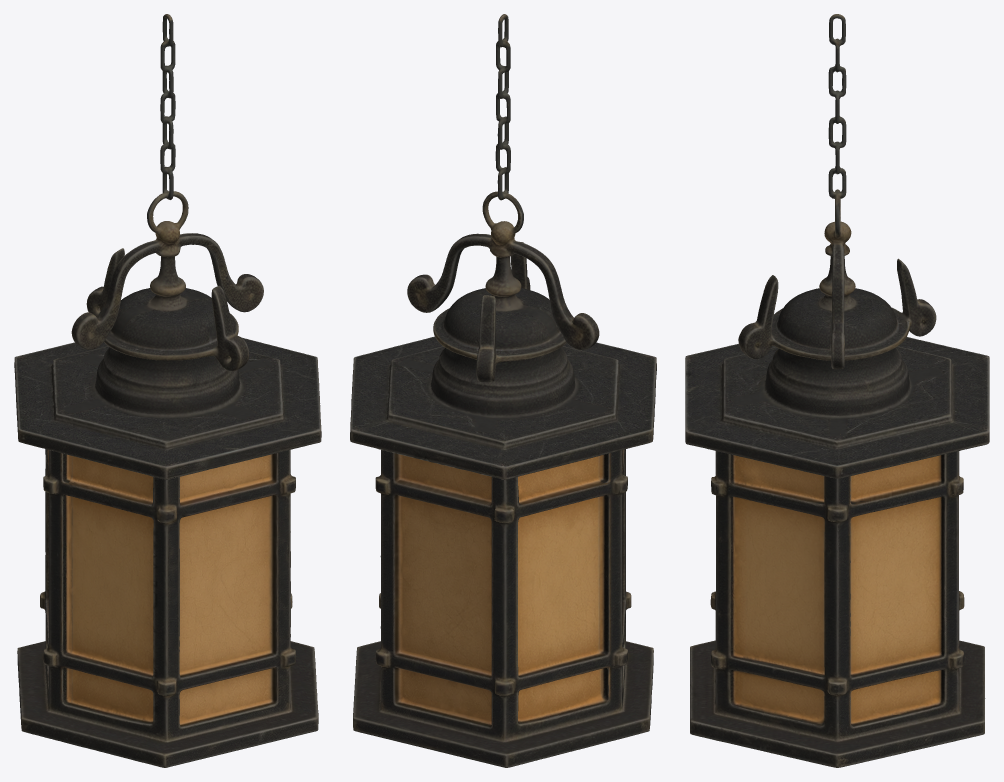
The model's file is prop09.glb.
The picture shows the model from 3 angles, left to right: view 1: azimuth 30°, elevation 25°; view 2: azimuth 150°, elevation 25°; view 3: azimuth 270°, elevation 25°; orthographic projection.
Parts seen in each view (by area): view 1: mesh_node; view 2: mesh_node; view 3: mesh_node.
Part boxes in pixels (x1=…): mesh_node: x1=14, y1=14, x2=321, y2=767; mesh_node: x1=350, y1=14, x2=656, y2=767; mesh_node: x1=685, y1=14, x2=989, y2=767.
Size of the model in its own units: 0.8379 by 1.9 by 0.7389.
Materials: 1 (1 with a texture image).
